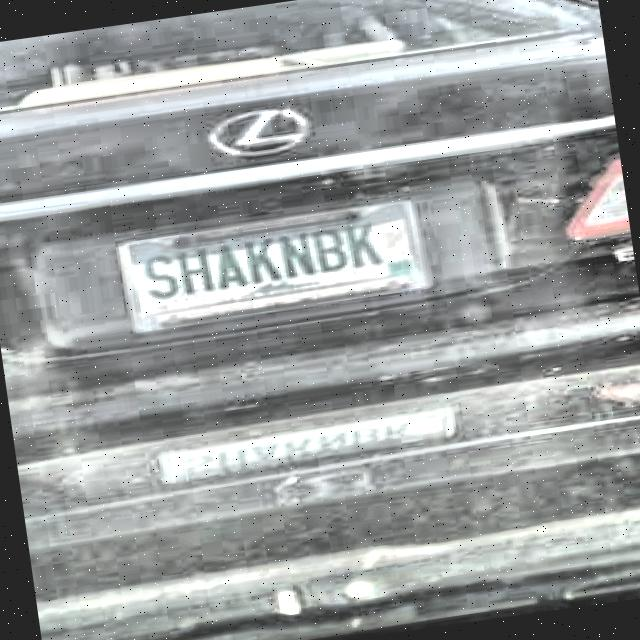license_plate: (120, 200, 428, 330)
